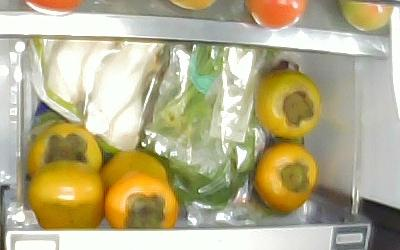persimmon: (29, 159, 105, 227), (256, 68, 322, 141), (253, 141, 318, 213), (27, 123, 104, 182), (104, 172, 178, 229)
